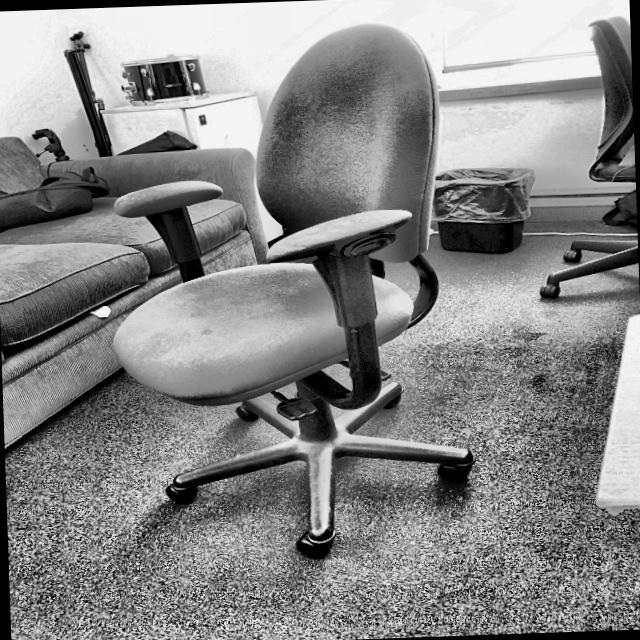chair: (99, 18, 478, 568)
